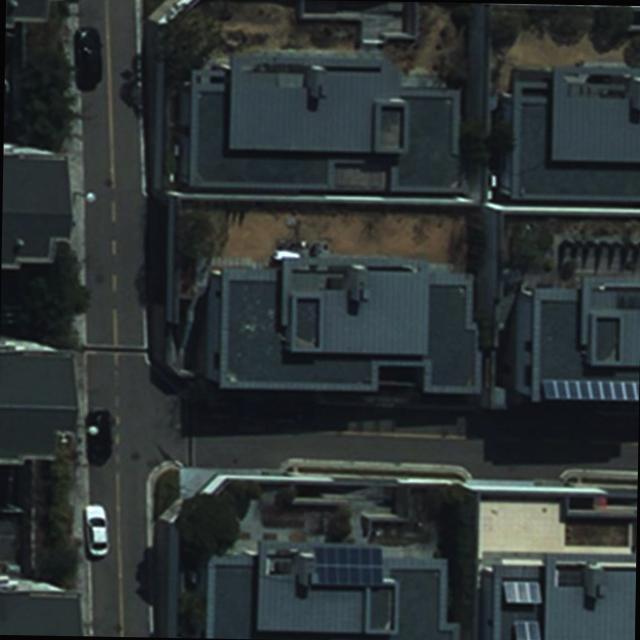solar: (311, 545, 385, 587), (543, 376, 638, 399)
